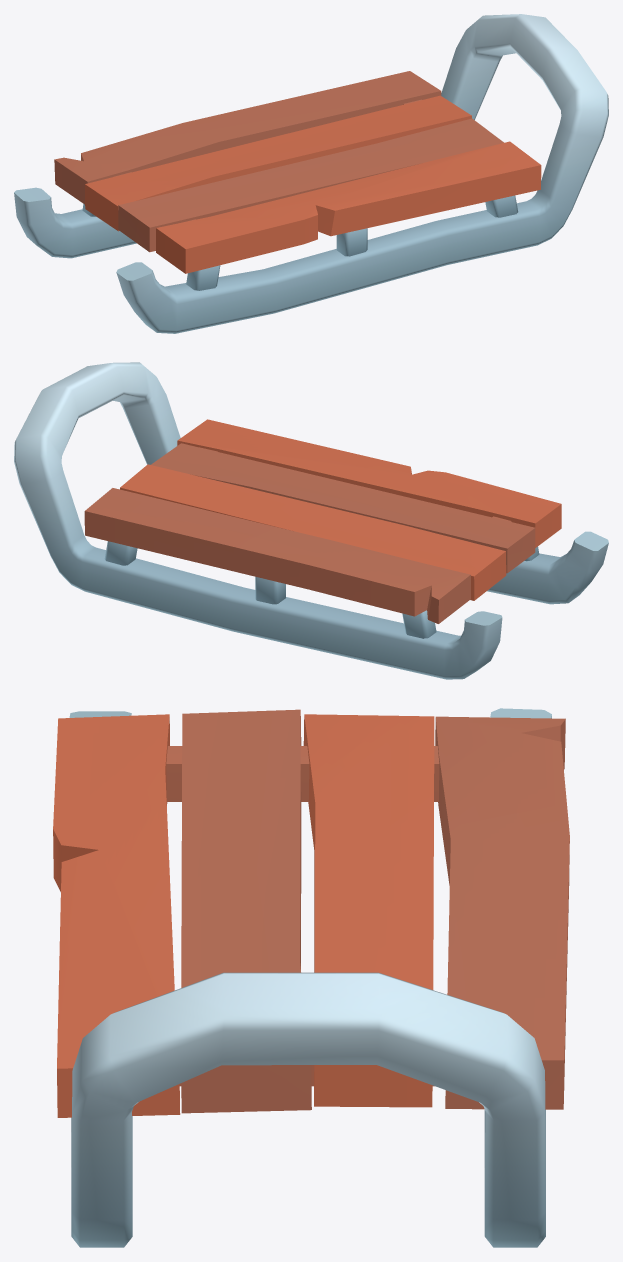
File: slegh_001.glb
3 renders of one model, top to bottom at view 1: azimuth 30°, elevation 25°; view 2: azimuth 150°, elevation 25°; view 3: azimuth 270°, elevation 25°, orthographic. The views are drawn at different scales.
Visible parts, largest first — view 1: slegh_001; view 2: slegh_001; view 3: slegh_001.
Part boxes in pixels (x1,y1,x2,y2): slegh_001: (14,14,608,333); slegh_001: (14,362,608,679); slegh_001: (53,708,569,1247).
Size of the model in its own units: 3.96 by 1.27 by 1.79.
1 material, 1 textured.
